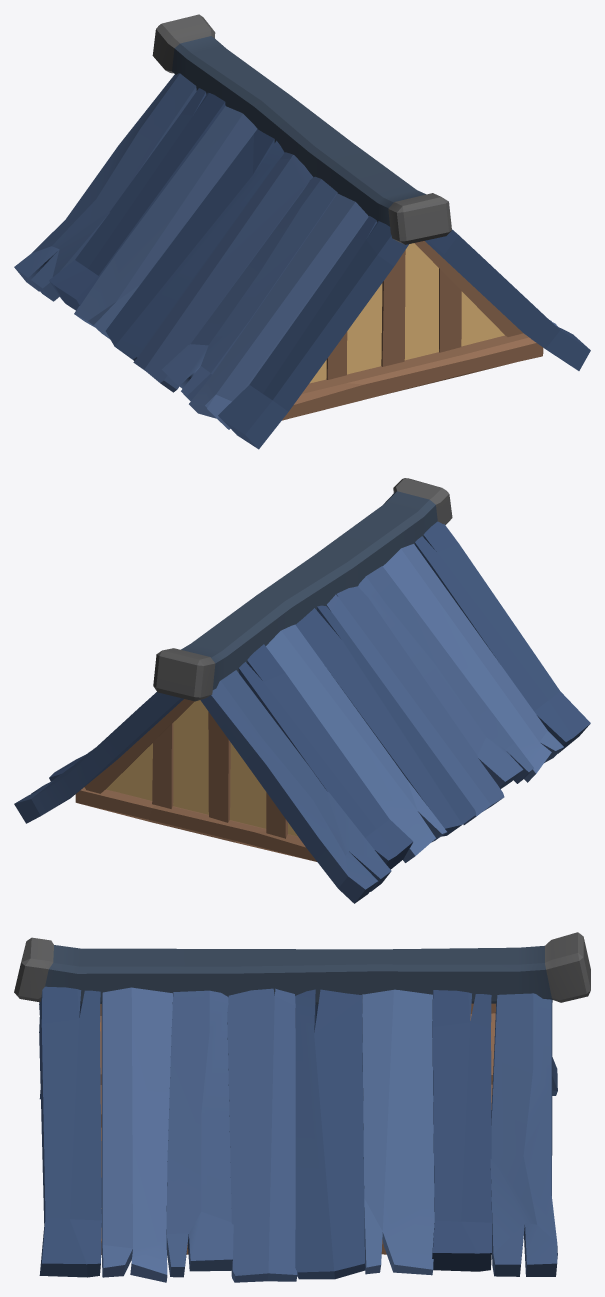
File: House_Roof_J.fbx
3 views of the same model, one above another, from view 1: azimuth 30°, elevation 25°; view 2: azimuth 150°, elevation 25°; view 3: azimuth 270°, elevation 25° (orthographic). The views are drawn at different scales.
Visible parts, largest first — view 1: House_Roof_J; view 2: House_Roof_J; view 3: House_Roof_J.
Part boxes in pixels (x1,y1,x2,y2): House_Roof_J: (14, 14, 590, 449); House_Roof_J: (14, 478, 590, 903); House_Roof_J: (14, 932, 590, 1282).
Bounding box in the file's own units: 489 × 297 × 616.
